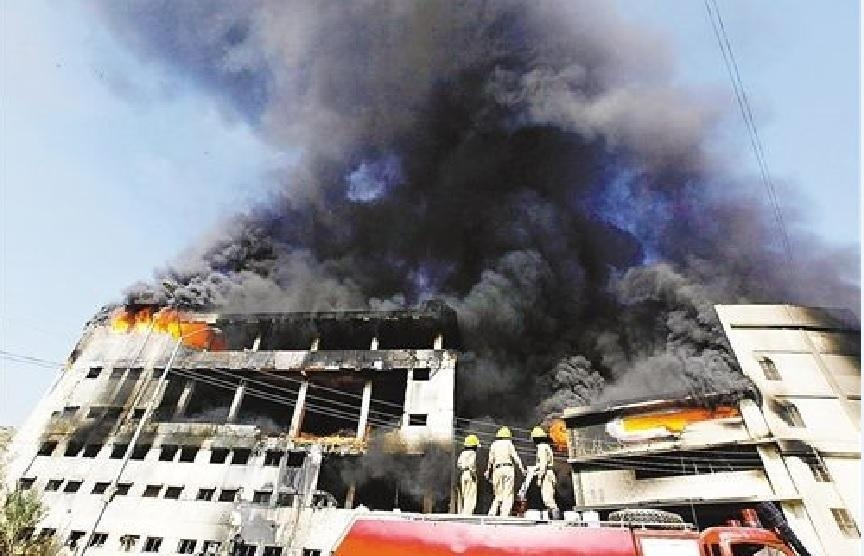fire: (109, 299, 213, 342), (617, 402, 733, 438)
